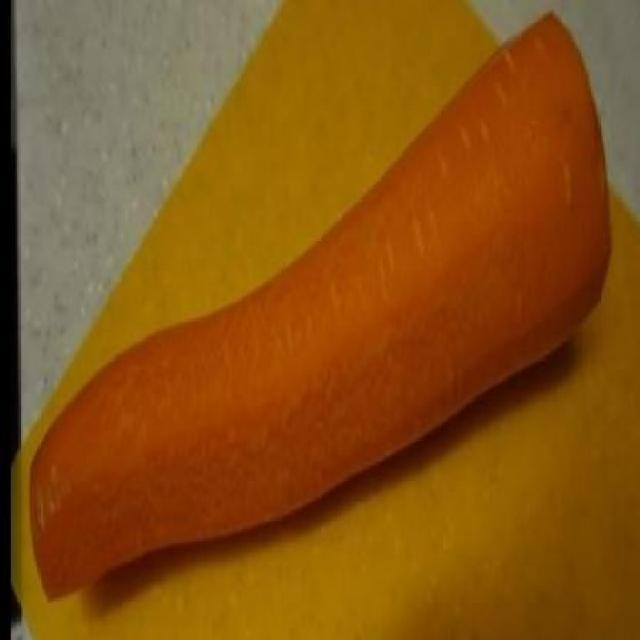carrot: (19, 8, 619, 606)
